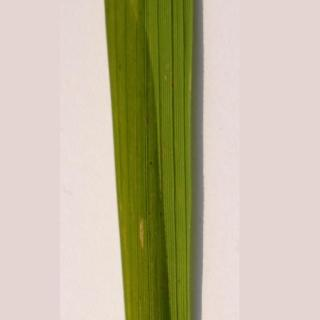Hawar-Daun: (113, 174, 164, 288)
